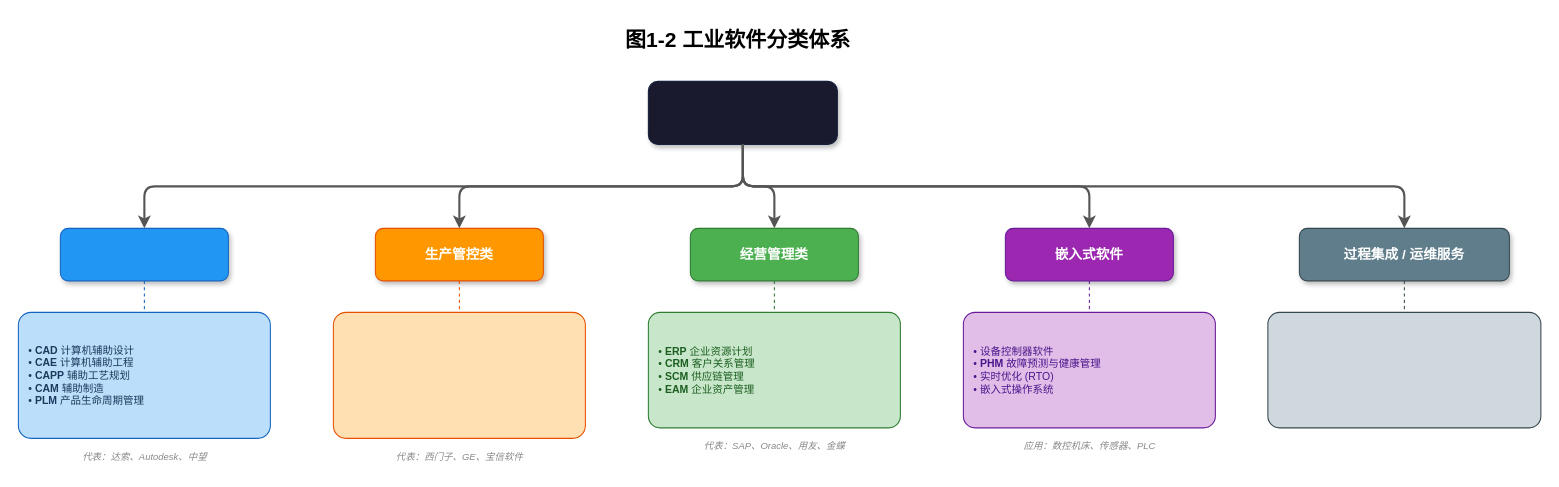
The diagram is 1559 pixels wide and 487 high, and some of its shapes have lost their labels. Here are the shapes that lost their labels. From the top down, the centre of each, then its label:
the point at 743,114: 工业软件 Industrial Software
the point at 145,255: 研发设计类
the point at 458,374: • MES 制造执行系统 • APS 高级计划排程 • SCADA 数据采集与监控 • DCS 分布式控制系统 • PLC 编程软件
the point at 1404,369: • 工业APP • MBSE 基于模型的系统工程 • QMS 质量管理系统 • WMS 仓库管理系统
